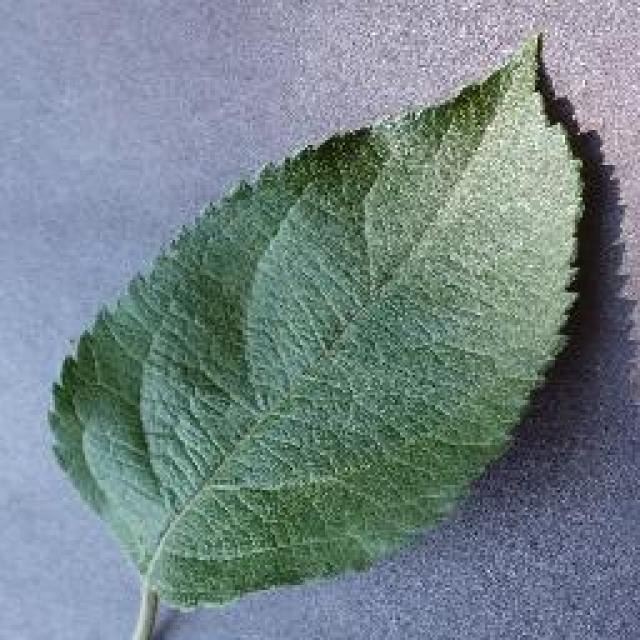apple healthy: (45, 28, 593, 638)
